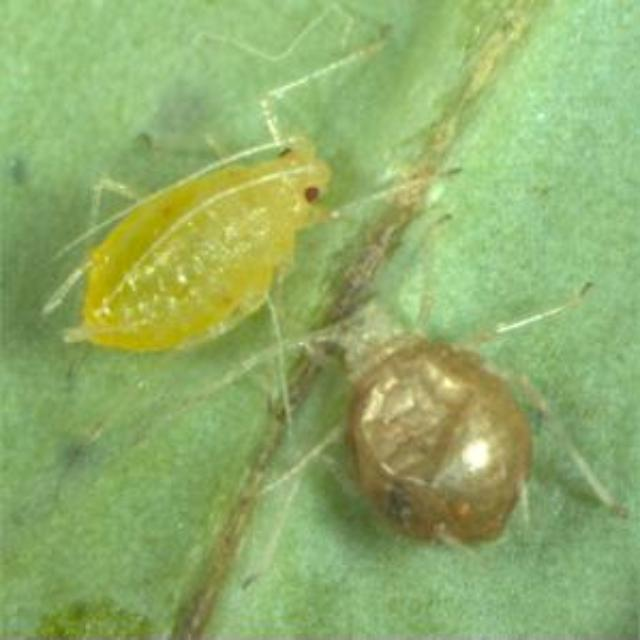Green peach aphid: (246, 254, 610, 576), (54, 48, 370, 408)
